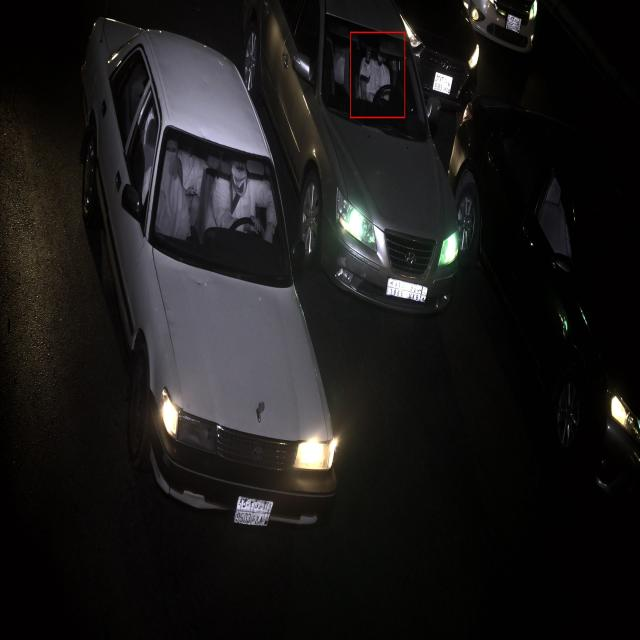windshield: (148, 124, 292, 286), (316, 10, 431, 148)
